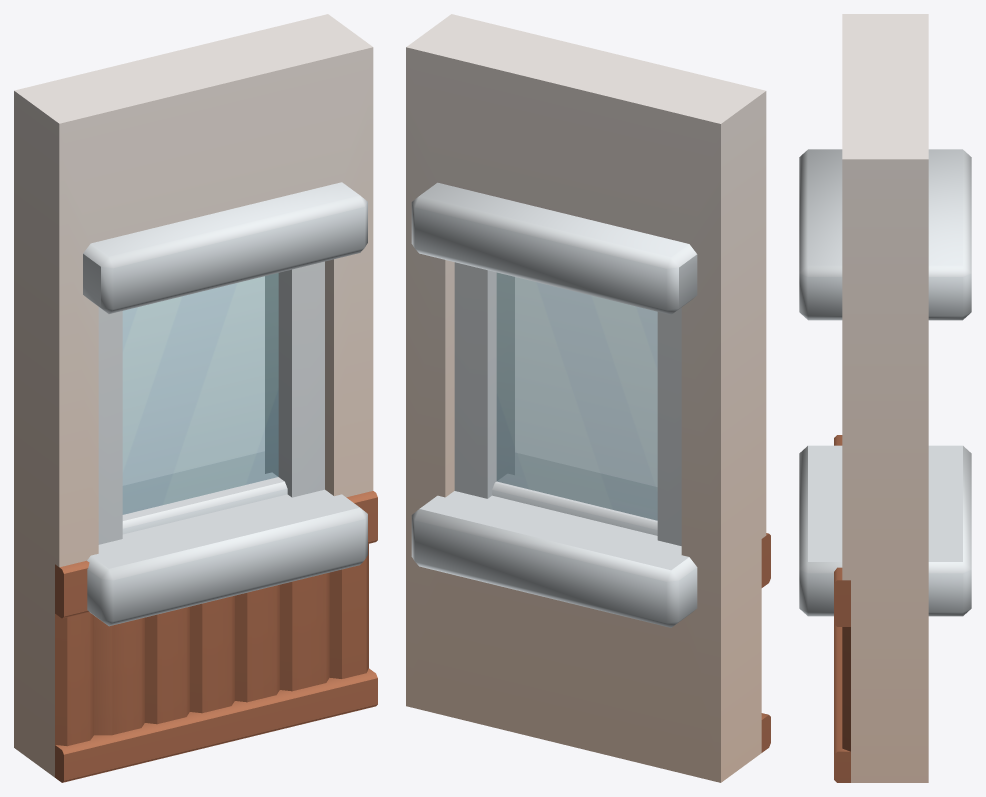
The model's file is wall-panelled-bakery-window-small.glb.
3 views of the same model, side by side, from view 1: azimuth 30°, elevation 25°; view 2: azimuth 150°, elevation 25°; view 3: azimuth 270°, elevation 25° (orthographic). The views are drawn at different scales.
Parts seen in each view (by area): view 1: wall_panelled_bakery_window_small; view 2: wall_panelled_bakery_window_small; view 3: wall_panelled_bakery_window_small.
Boxes of the visible parts, x1,y1,x2,y2 form: wall_panelled_bakery_window_small: [14, 14, 377, 782]; wall_panelled_bakery_window_small: [406, 14, 770, 782]; wall_panelled_bakery_window_small: [799, 14, 971, 782].
Bounding box in the file's own units: 2 × 4 × 1.
Materials: 2 (2 with a texture image).
